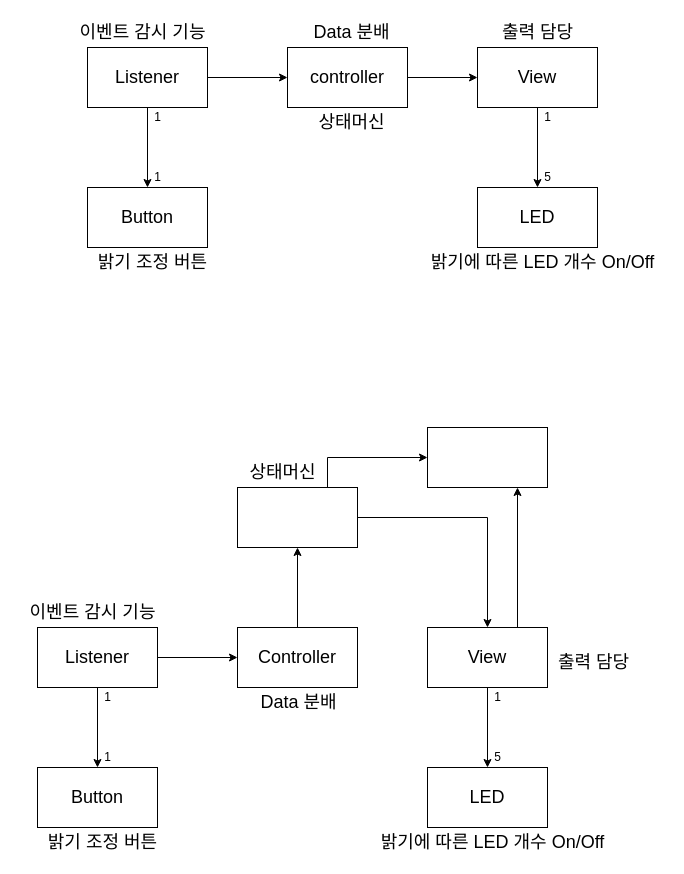
Image size: 684x874. Some labels were removed from this diagram. Each missing label, with the box of its shape:
<<enum>> lightState: (426, 426, 548, 488)
Service: (236, 486, 358, 548)
